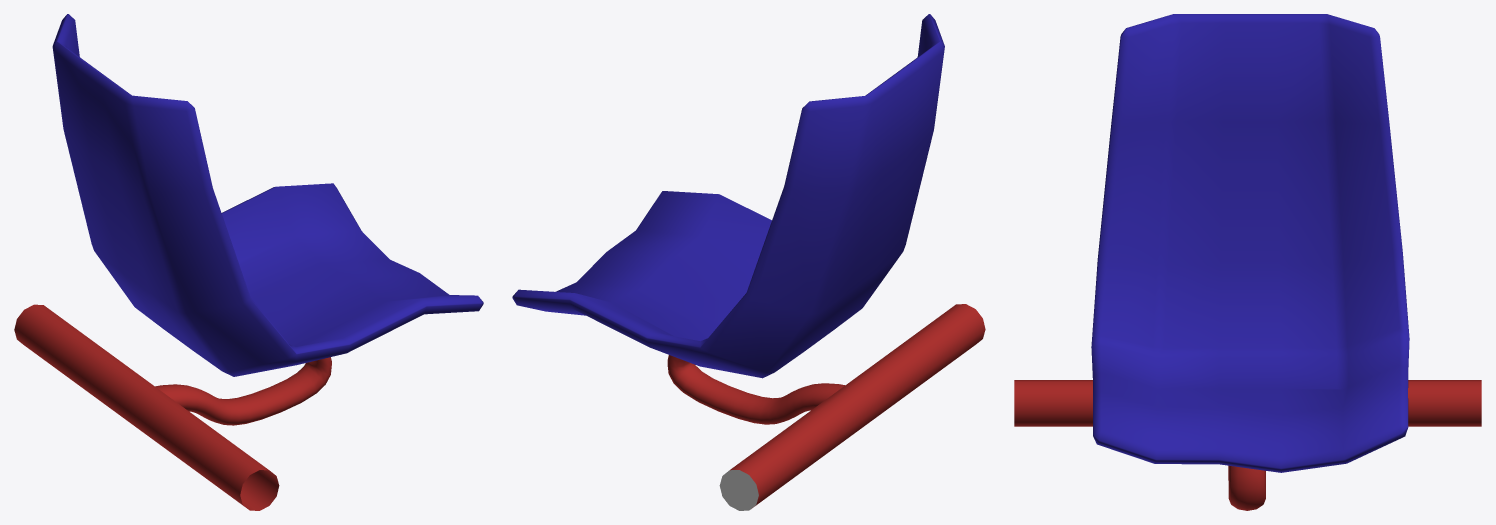
The model's file is Chaise_Rangee.fbx.
The picture shows the model from 3 angles, left to right: view 1: azimuth 30°, elevation 25°; view 2: azimuth 150°, elevation 25°; view 3: azimuth 270°, elevation 25°; orthographic projection. The views are drawn at different scales.
Visible parts, largest first — view 1: Chaise.001; view 2: Chaise.001; view 3: Chaise.001.
Boxes of the visible parts, x1,y1,x2,y2 form: Chaise.001: [14, 14, 483, 510]; Chaise.001: [512, 14, 985, 510]; Chaise.001: [1014, 14, 1481, 510].
Bounding box in the file's own units: 82.08 × 95.35 × 99.89.
